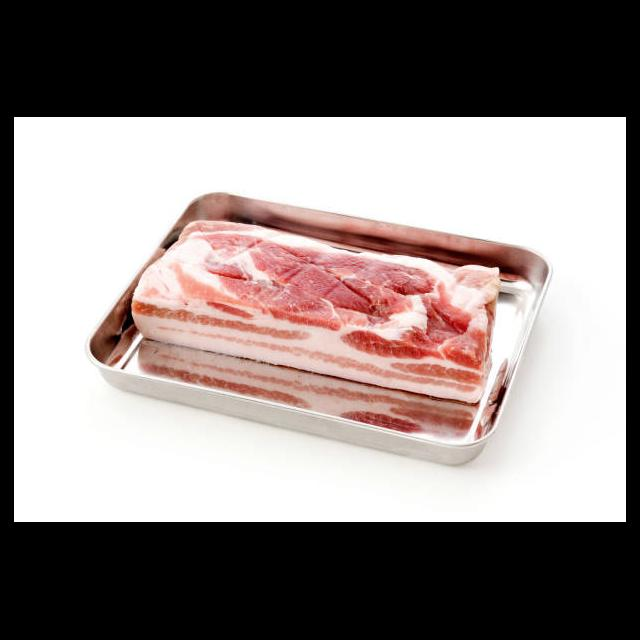pork: (136, 218, 500, 405)
